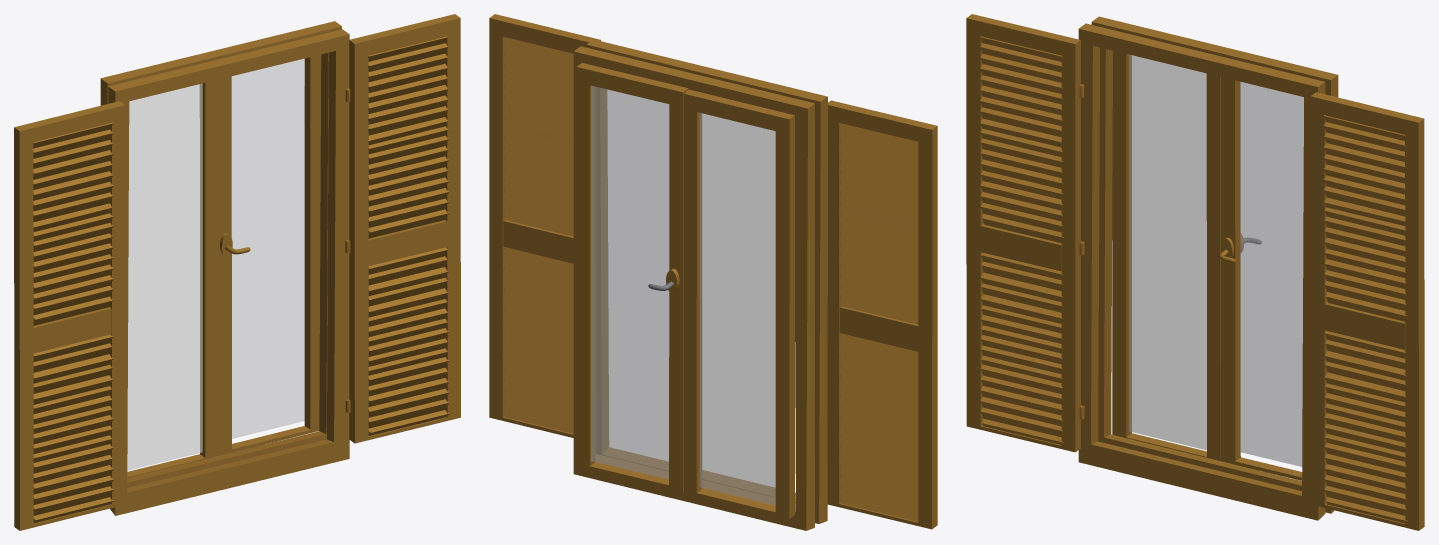
Rendered from window.fbx.
The picture shows the model from 3 angles, left to right: view 1: azimuth 30°, elevation 25°; view 2: azimuth 150°, elevation 25°; view 3: azimuth 330°, elevation 25°; orthographic projection. The views are drawn at different scales.
Parts seen in each view (by area): view 1: vetro01, vetro, 3, cornice06, cornice05, cornice, base, cornice04, barra_main, barra_mai0, stanghetta, stanghet25 (+68 smaller); view 2: vetro, vetro01, cornice04, base, cornice, cornice06, 3, cornice05, barra_mai0, barra_main, stanghet44, stanghet57 (+66 smaller); view 3: vetro01, vetro, 3, cornice05, cornice06, cornice04, base, cornice, barra_main, barra_mai0, stanghet36, stanghet40 (+68 smaller).
Part boxes in pixels (bbox=[...]): vetro01: bbox=[127, 83, 202, 470]; vetro: bbox=[231, 59, 304, 438]; 3: bbox=[108, 29, 349, 515]; cornice06: bbox=[14, 101, 125, 530]; cornice05: bbox=[349, 14, 460, 443]; cornice: bbox=[218, 54, 321, 455]; base: bbox=[100, 21, 341, 487]; cornice04: bbox=[127, 79, 218, 477]; barra_main: bbox=[368, 220, 447, 266]; barra_mai0: bbox=[33, 307, 111, 353]; stanghetta: bbox=[368, 156, 448, 185]; stanghet25: bbox=[368, 288, 448, 317]; vetro: bbox=[591, 85, 669, 479]; vetro01: bbox=[699, 113, 775, 505]; cornice04: bbox=[683, 89, 794, 518]; base: bbox=[573, 46, 814, 530]; cornice: bbox=[576, 63, 688, 491]; cornice06: bbox=[827, 100, 937, 529]; 3: bbox=[586, 39, 827, 523]; cornice05: bbox=[489, 14, 600, 437]; barra_mai0: bbox=[839, 306, 918, 351]; barra_main: bbox=[503, 220, 573, 263]; stanghet44: bbox=[839, 202, 918, 231]; stanghet57: bbox=[839, 374, 918, 403]; vetro01: bbox=[1129, 54, 1206, 450]; vetro: bbox=[1240, 82, 1303, 466]; 3: bbox=[1078, 23, 1325, 520]; cornice05: bbox=[1310, 92, 1424, 530]; cornice06: bbox=[966, 14, 1080, 452]; cornice04: bbox=[1112, 50, 1220, 461]; base: bbox=[1091, 16, 1338, 513]; cornice: bbox=[1221, 77, 1302, 480]; barra_main: bbox=[1324, 302, 1405, 349]; barra_mai0: bbox=[980, 223, 1061, 271]; stanghet36: bbox=[980, 107, 1062, 137]; stanghet40: bbox=[980, 64, 1062, 93].
Size of the model in its own units: 2.29 by 2.1 by 0.3886.
